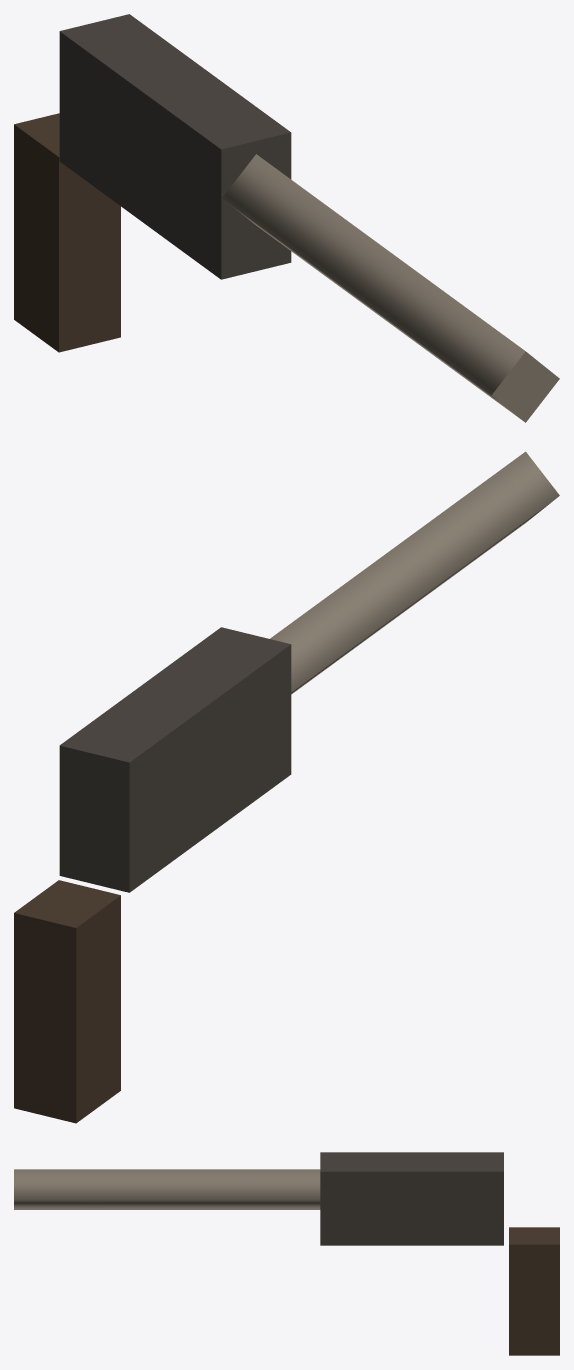
3 renders of one model, top to bottom at view 1: azimuth 30°, elevation 25°; view 2: azimuth 150°, elevation 25°; view 3: azimuth 270°, elevation 25°, orthographic. The views are drawn at different scales.
Parts seen in each view (by area): view 1: raider_weapon_scrap_revolver; view 2: raider_weapon_scrap_revolver; view 3: raider_weapon_scrap_revolver.
Part boxes in pixels (x1,y1,x2,y2): raider_weapon_scrap_revolver: (14, 14, 559, 422); raider_weapon_scrap_revolver: (14, 451, 559, 1123); raider_weapon_scrap_revolver: (14, 1152, 559, 1355).
Bounding box in the file's own units: 0.045 × 0.2 × 0.535.
